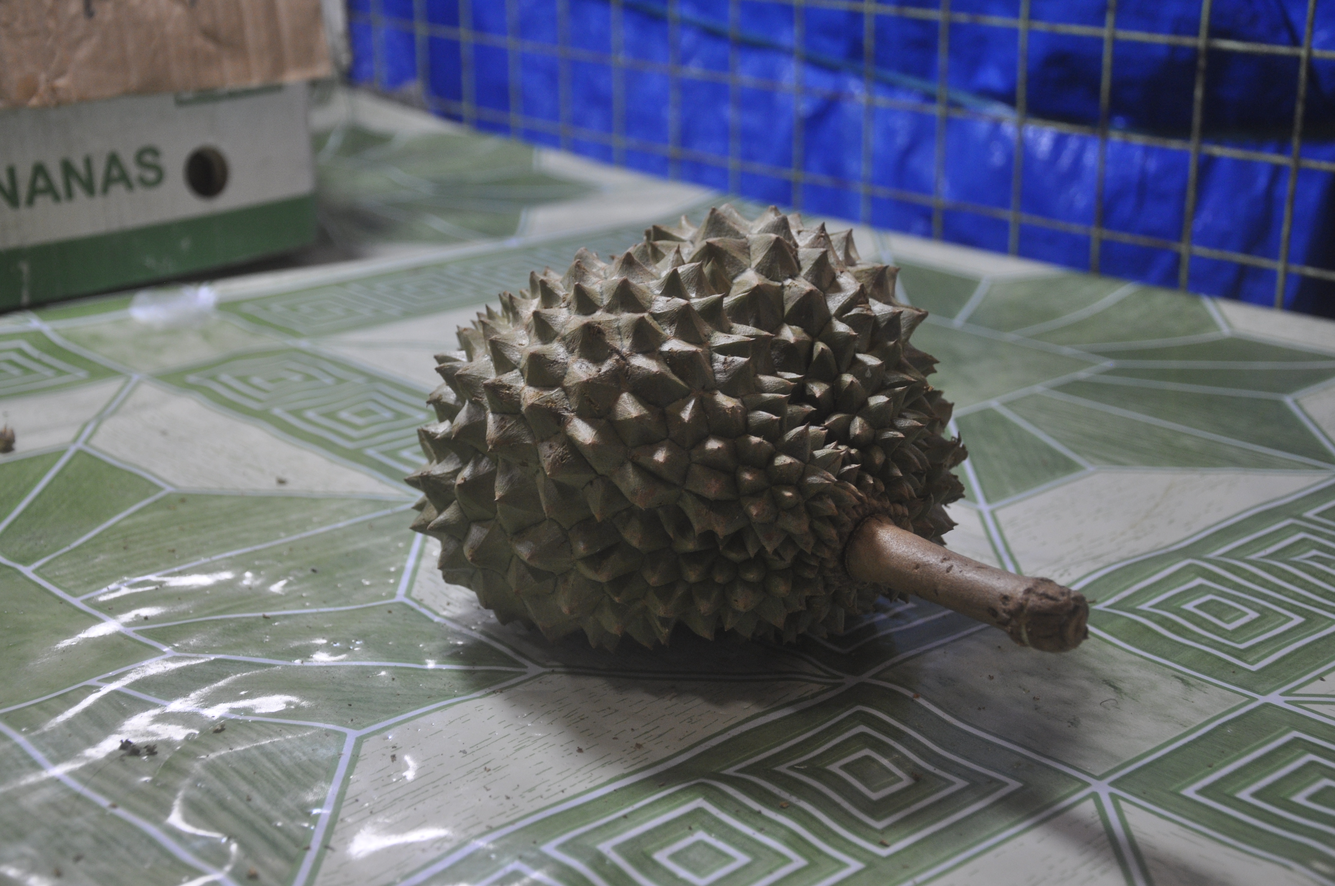mature: (406, 206, 1085, 651)
